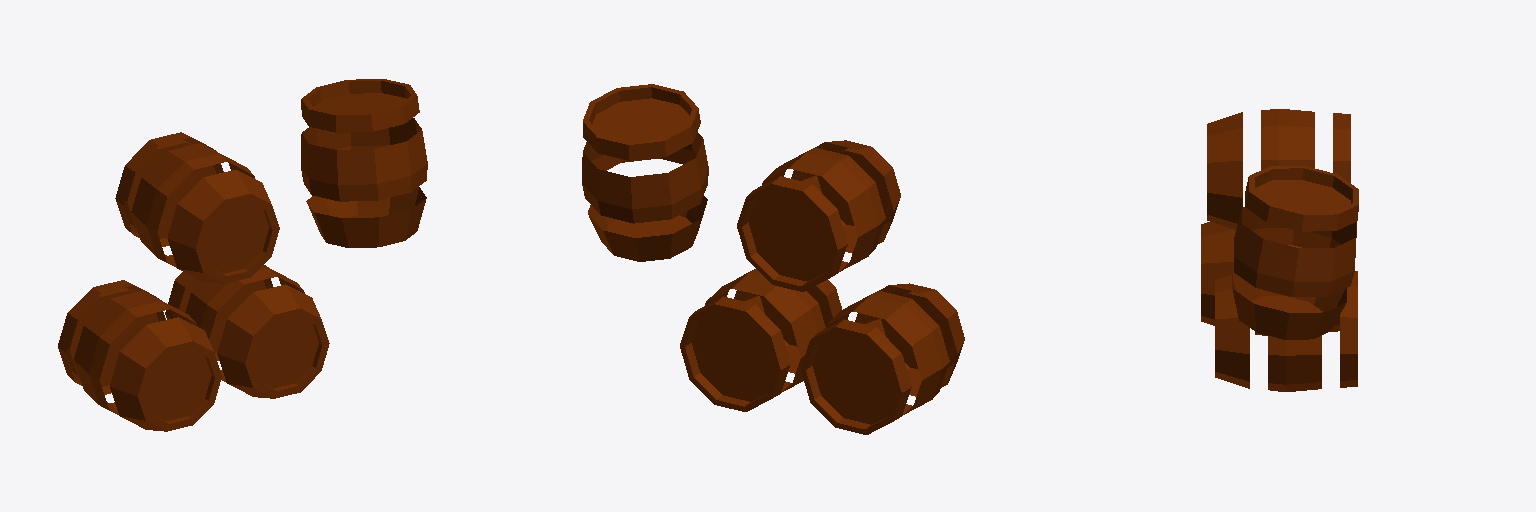
Rendered from Barrels.obj.
3 views of the same model, side by side, from view 1: azimuth 30°, elevation 25°; view 2: azimuth 150°, elevation 25°; view 3: azimuth 270°, elevation 25° (orthographic).
Parts seen in each view (by area): view 1: Barrel.005, Barrel.004, Barrel.001, Barrel.002; view 2: Barrel.005, Barrel.001, Barrel.004, Barrel.002; view 3: Barrel.005, Barrel.004, Barrel.002, Barrel.001.
Part boxes in pixels (bbox=[...]): Barrel.005: bbox=[301, 79, 427, 247]; Barrel.004: bbox=[115, 132, 279, 283]; Barrel.001: bbox=[58, 280, 221, 431]; Barrel.002: bbox=[165, 265, 329, 398]; Barrel.005: bbox=[582, 84, 708, 261]; Barrel.001: bbox=[801, 283, 964, 434]; Barrel.004: bbox=[737, 140, 900, 291]; Barrel.002: bbox=[680, 269, 841, 411]; Barrel.005: bbox=[1232, 166, 1358, 339]; Barrel.004: bbox=[1207, 109, 1350, 229]; Barrel.002: bbox=[1215, 271, 1357, 391]; Barrel.001: bbox=[1201, 222, 1339, 335].
Bounding box in the file's own units: 0.4002 × 0.2878 × 0.1602.